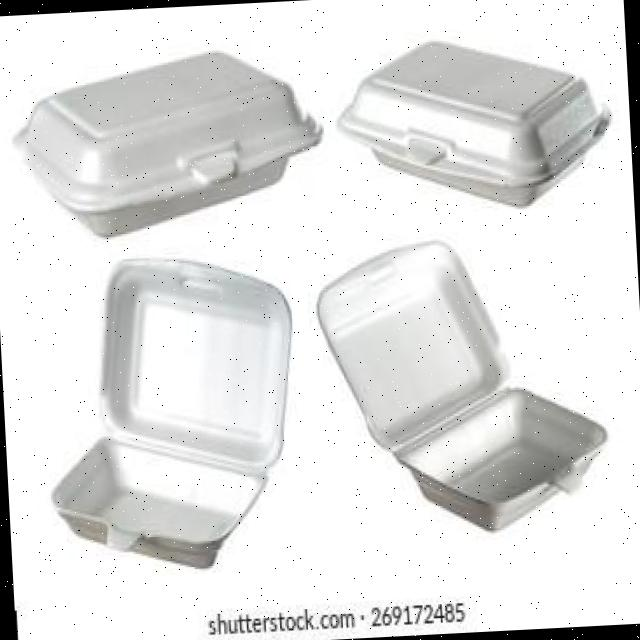styrofoam: (310, 228, 612, 540), (36, 246, 304, 576), (6, 41, 328, 242), (332, 26, 615, 216)
